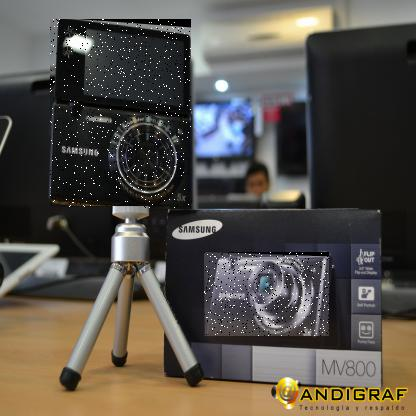Camera: (51, 21, 193, 211), (205, 253, 331, 338)
